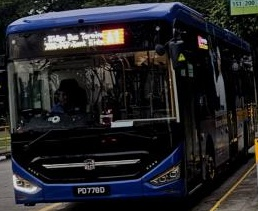bus: (100, 27, 123, 45)
